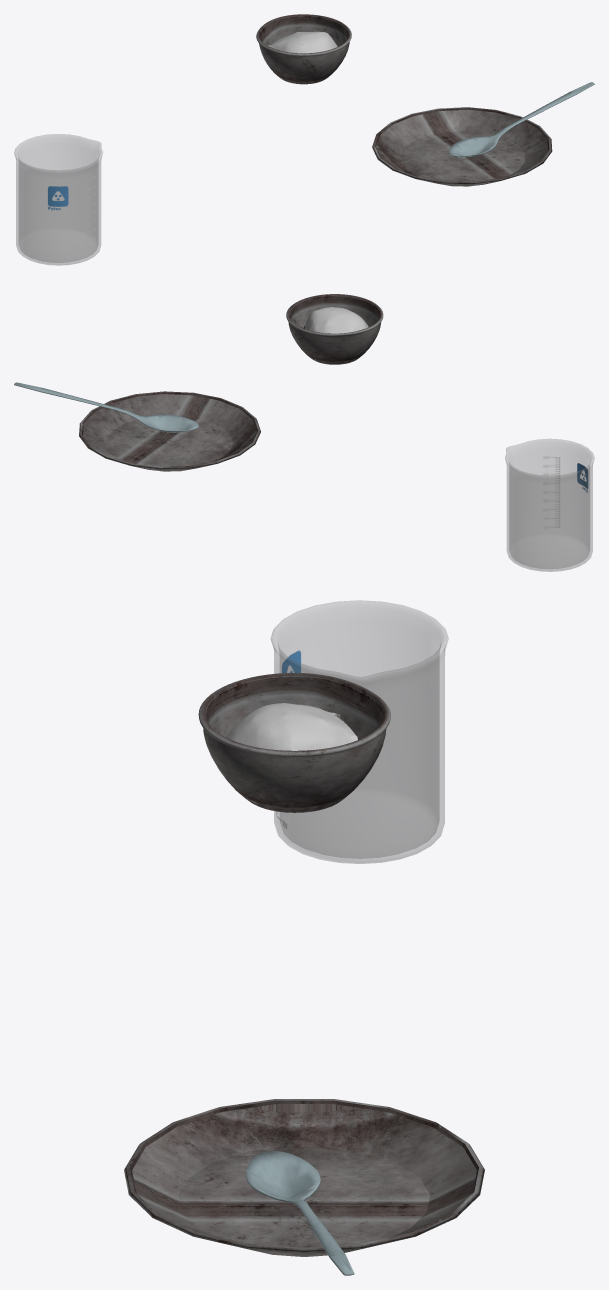
The model's file is evaporationStage.glb.
3 views of the same model, one above another, from view 1: azimuth 30°, elevation 25°; view 2: azimuth 150°, elevation 25°; view 3: azimuth 270°, elevation 25° (orthographic). The views are drawn at different scales.
Visible parts, largest first — view 1: water_beaker, plate.001, bowl_salt_water, salt_spoon; view 2: water_beaker, plate.001, bowl_salt_water, salt_spoon; view 3: plate.001, water_beaker, bowl_salt_water, salt_spoon.
Part boxes in pixels (<box>): water_beaker: <box>14,134,102,265</box>; plate.001: <box>372,107,552,186</box>; bowl_salt_water: <box>256,14,351,84</box>; salt_spoon: <box>448,82,594,157</box>; water_beaker: <box>505,439,594,571</box>; plate.001: <box>79,391,260,471</box>; bowl_salt_water: <box>286,294,383,364</box>; salt_spoon: <box>14,382,198,432</box>; plate.001: <box>124,1099,484,1256</box>; water_beaker: <box>271,600,448,863</box>; bowl_salt_water: <box>198,673,390,812</box>; salt_spoon: <box>246,1151,354,1275</box>.
Size of the model in its own units: 1.3 by 0.377 by 0.356.
Materials: 3 (3 with a texture image).
